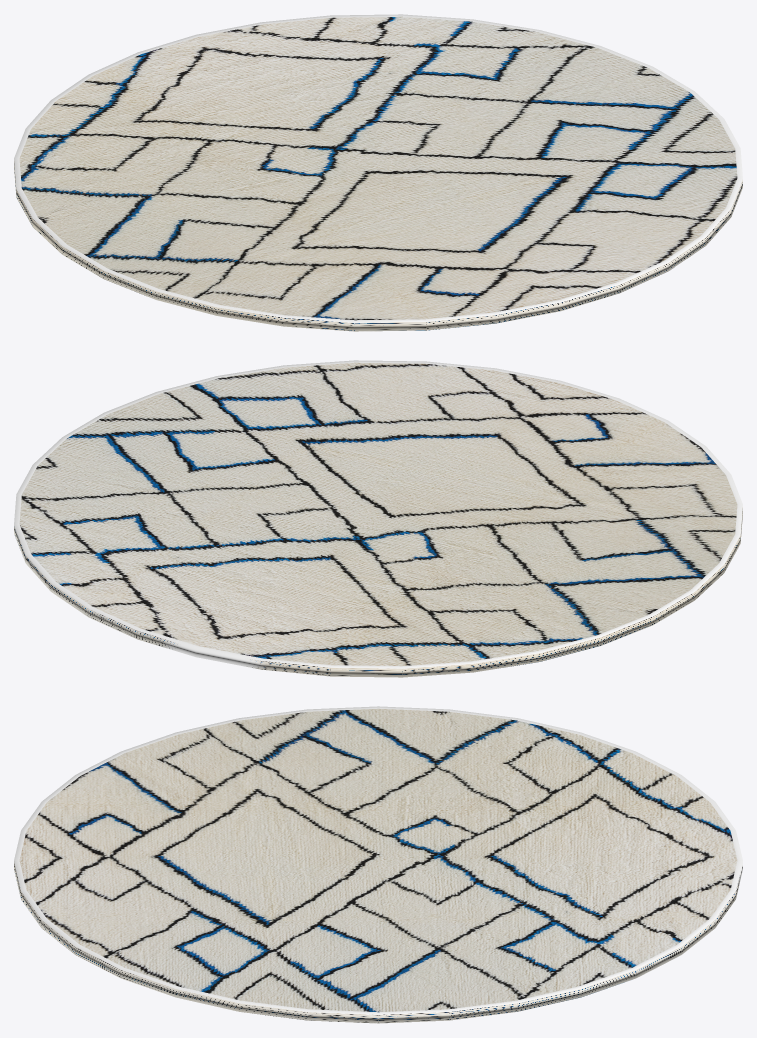
The model's file is carpetC.gltf.
The picture shows the model from 3 angles, top to bottom: view 1: azimuth 30°, elevation 25°; view 2: azimuth 150°, elevation 25°; view 3: azimuth 270°, elevation 25°; orthographic projection.
Parts seen in each view (by area): view 1: Circle; view 2: Circle; view 3: Circle.
Part boxes in pixels (<box>): Circle: <box>14,14,742,331</box>; Circle: <box>14,360,742,677</box>; Circle: <box>14,706,742,1023</box>.
Size of the model in its own units: 12.21 by 0.1664 by 12.21.
1 material, 1 textured.
